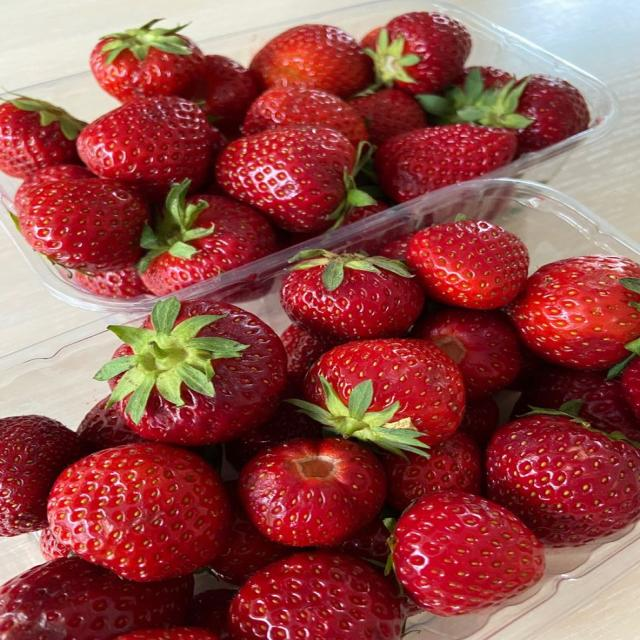strawberry: (96, 298, 286, 445), (47, 443, 230, 581), (487, 405, 639, 546), (292, 339, 465, 452), (394, 491, 545, 616), (216, 126, 374, 232), (239, 438, 386, 546), (0, 557, 193, 639), (139, 181, 276, 295), (78, 96, 224, 201), (229, 552, 403, 639), (507, 256, 639, 369), (419, 68, 589, 155), (280, 250, 424, 343), (18, 179, 149, 272), (374, 124, 516, 202), (407, 220, 529, 309), (0, 415, 85, 536), (412, 308, 520, 400), (514, 365, 639, 440), (90, 20, 204, 102), (251, 25, 373, 98), (208, 481, 291, 585), (366, 12, 471, 94), (384, 432, 482, 511), (242, 87, 368, 146), (417, 67, 530, 129), (0, 96, 85, 178), (225, 403, 321, 471), (518, 76, 589, 153), (203, 55, 260, 136), (349, 89, 427, 146), (14, 164, 94, 213), (77, 398, 145, 452), (280, 324, 333, 389), (334, 518, 390, 564), (187, 588, 236, 639), (74, 267, 151, 298), (459, 397, 499, 449), (328, 199, 389, 230), (509, 342, 547, 391), (454, 66, 514, 88), (116, 627, 219, 639), (621, 358, 639, 420), (40, 528, 71, 561), (378, 233, 414, 261), (361, 27, 382, 49)
